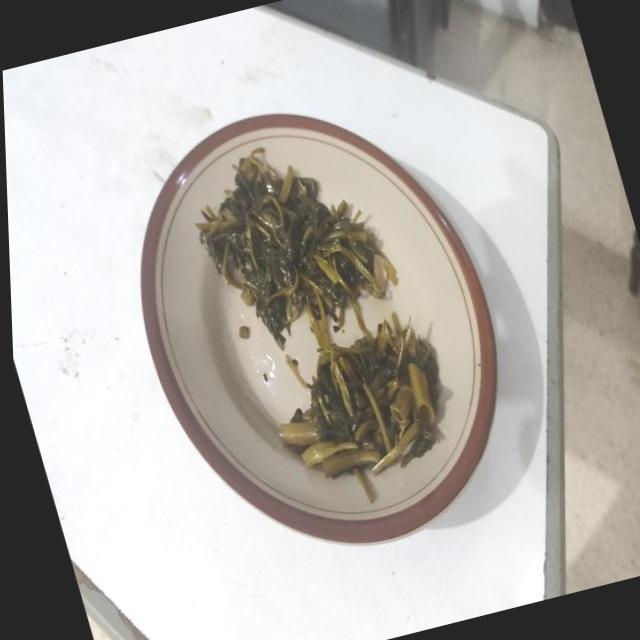tumis_kangkung: (195, 148, 398, 349), (280, 312, 438, 502)
